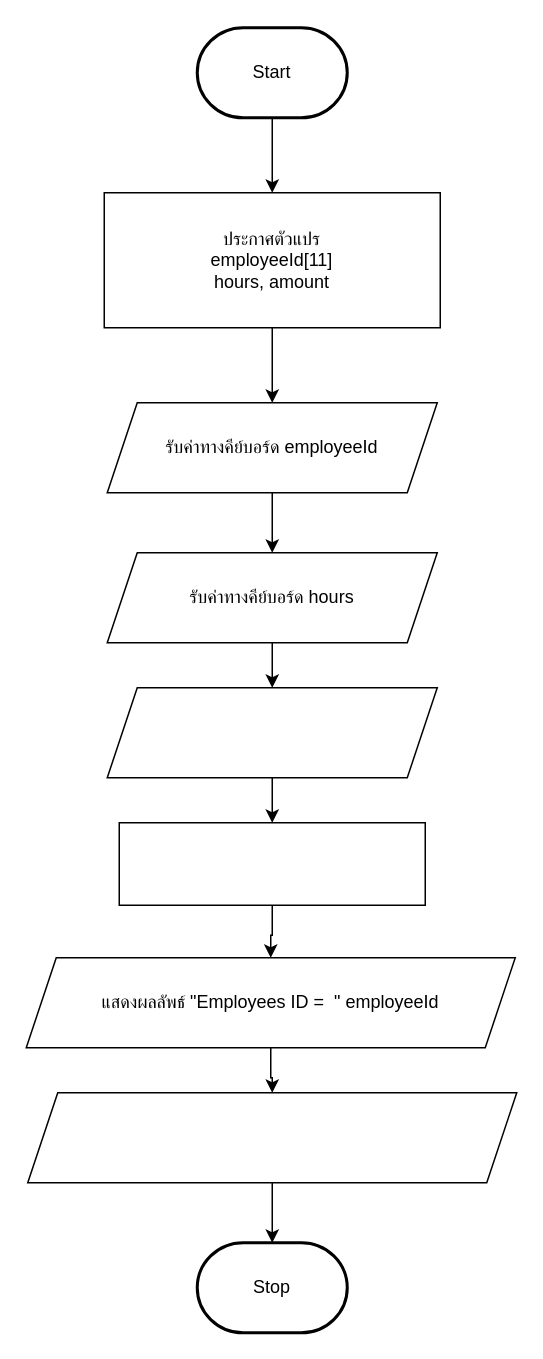
Image size: 543x1359. Some labels were removed from this diagram. The centre of each missing label's shape, as x and y in pixels:
salary = h * amount: (x=271, y=863)
รับค่าทางคีย์บอร์ด amount: (x=271, y=732)
แสดงผลลัพธ์ "Salary = U$ " salary: (x=271, y=1137)
